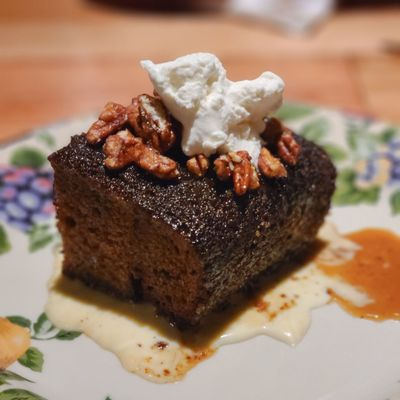sushi: (44, 60, 344, 384)
